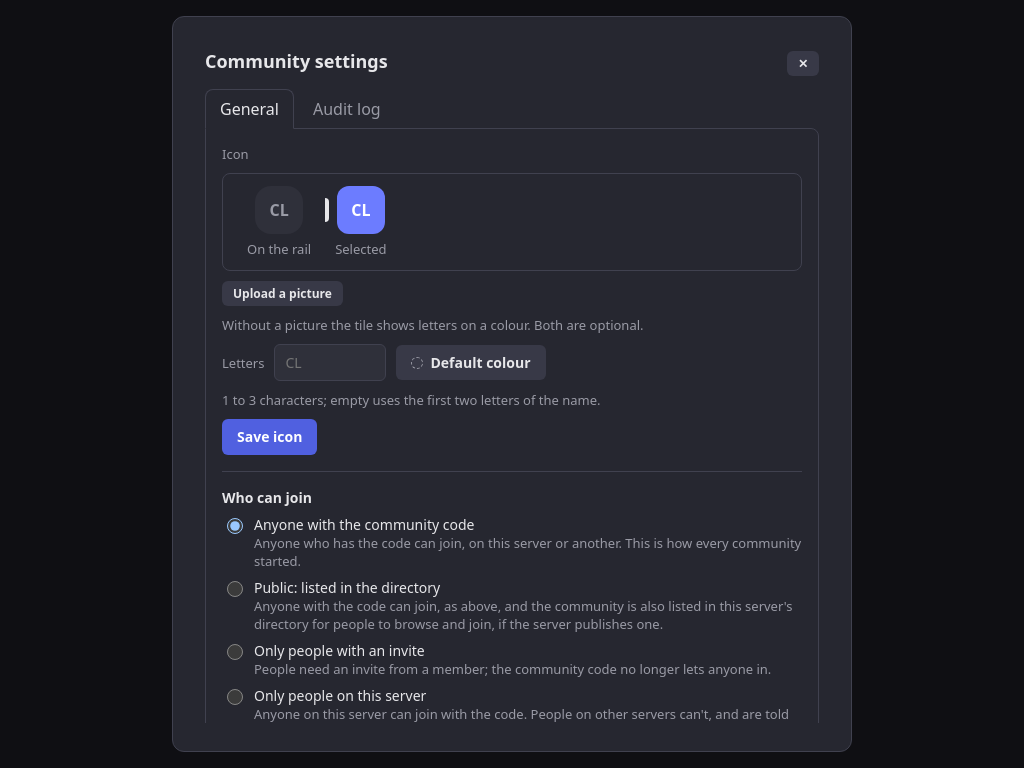
CommunitySettingsModal for a delegated member › opens the audit log on this community, for whoever manages it
The image size is (1024, 768).
What coordinates should you click on to do the following:
click the tab "Audit log"
I would click on:
 (347, 109)
Its box is [298,89,396,129].
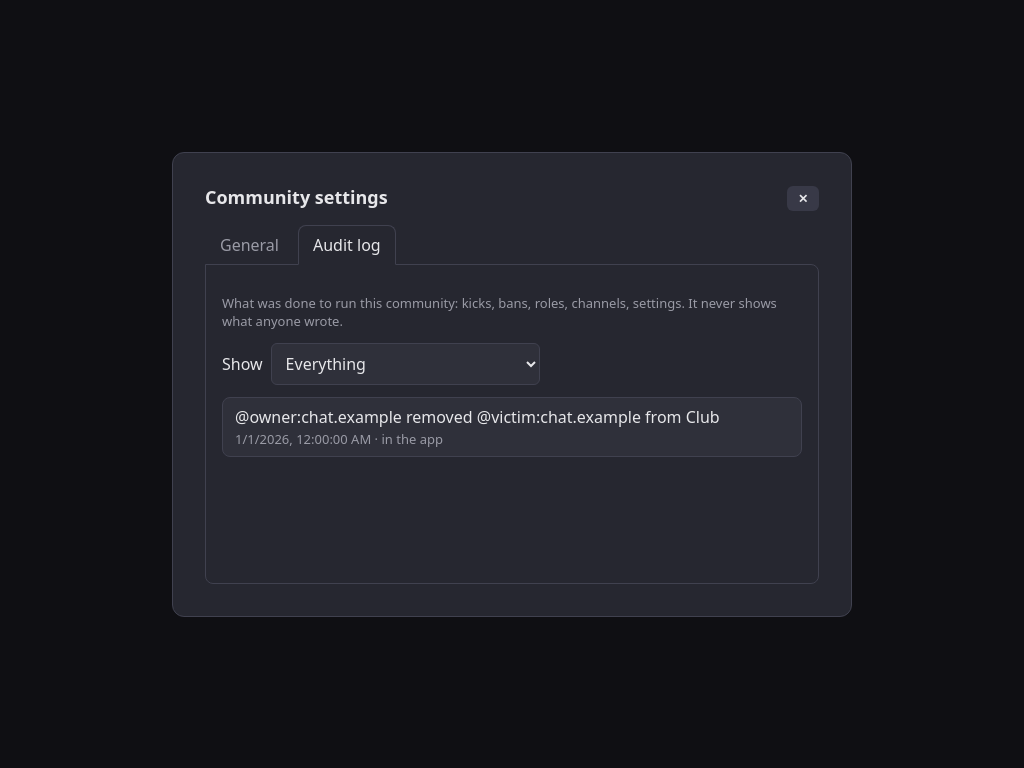
Expected: the text "@owner:chat.example removed @victim:chat.example from Club" is shown, [235,406,789,428]
